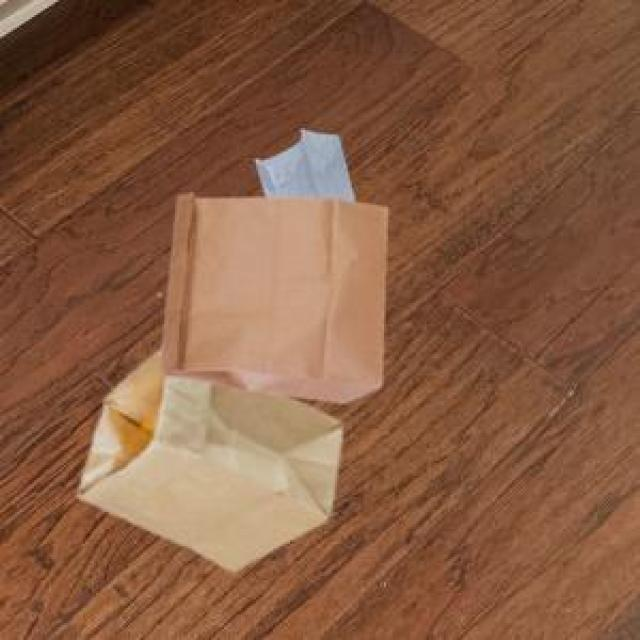paper: (75, 346, 337, 568), (156, 190, 384, 399)
